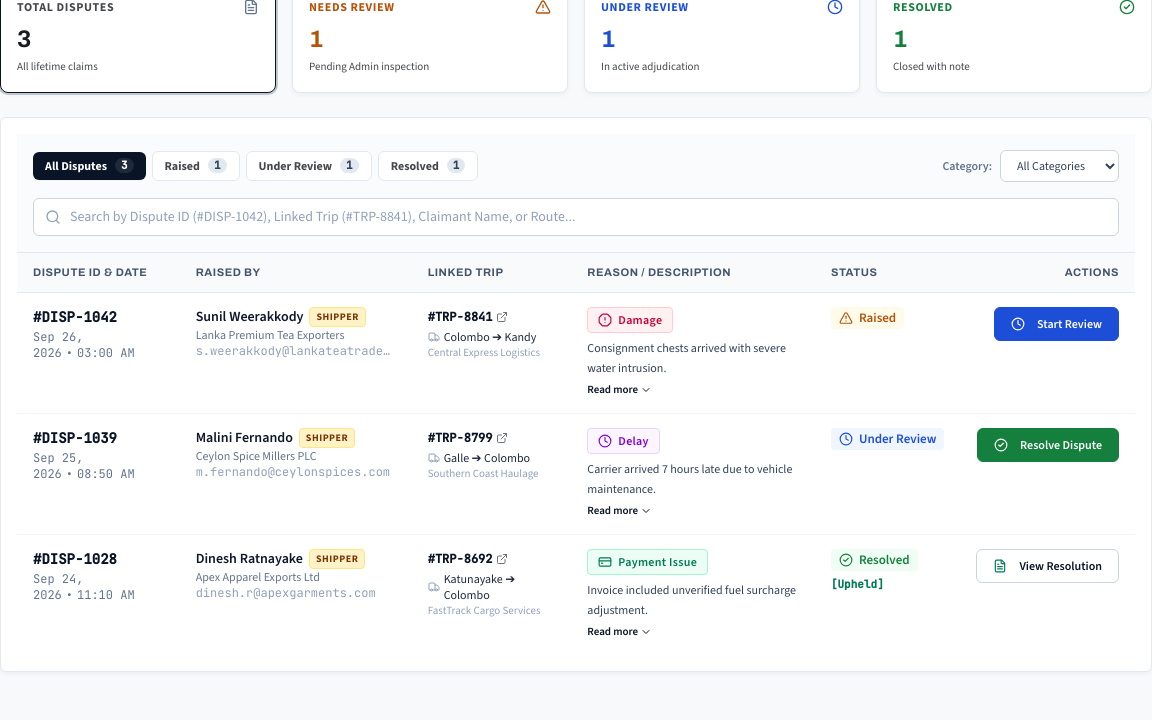
Scenario: AdminDisputesPage — Rendering & Lifecycle Rules (Y3S01-81) › opens read-only View Resolution modal when "View Resolution" is clicked on a resolved dispute
(page scrolled)
Step 1. Click the button "View Resolution" → click(1048, 566), box left=976, top=549, right=1119, bottom=583
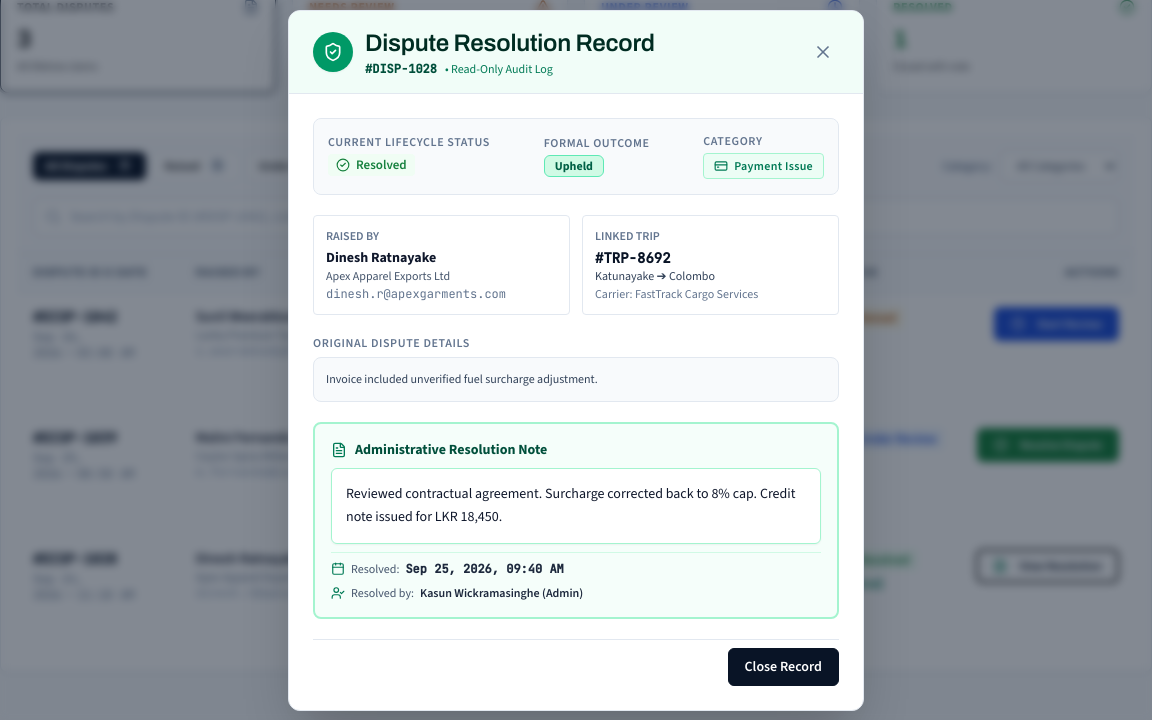
Expected: the heading "Dispute Resolution Record" is shown, left=365, top=26, right=655, bottom=58
Expected: the text "• Read-Only Audit Log" is shown, left=445, top=60, right=553, bottom=76
Expected: the text "Reviewed contractual agreement" is shown, left=346, top=484, right=798, bottom=526
// Close modal
Step 2. Click the button "Close Record" → click(783, 666), box left=728, top=648, right=839, bottom=686
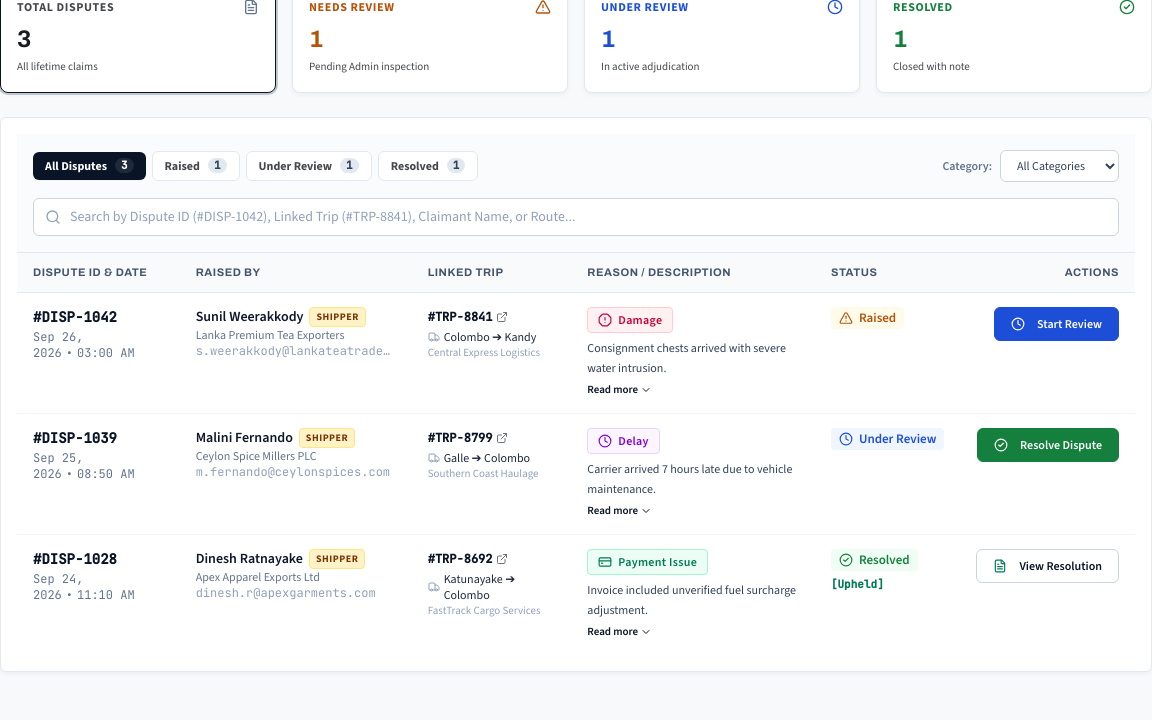
Expected: the text "Read-Only Audit Log" is gone
